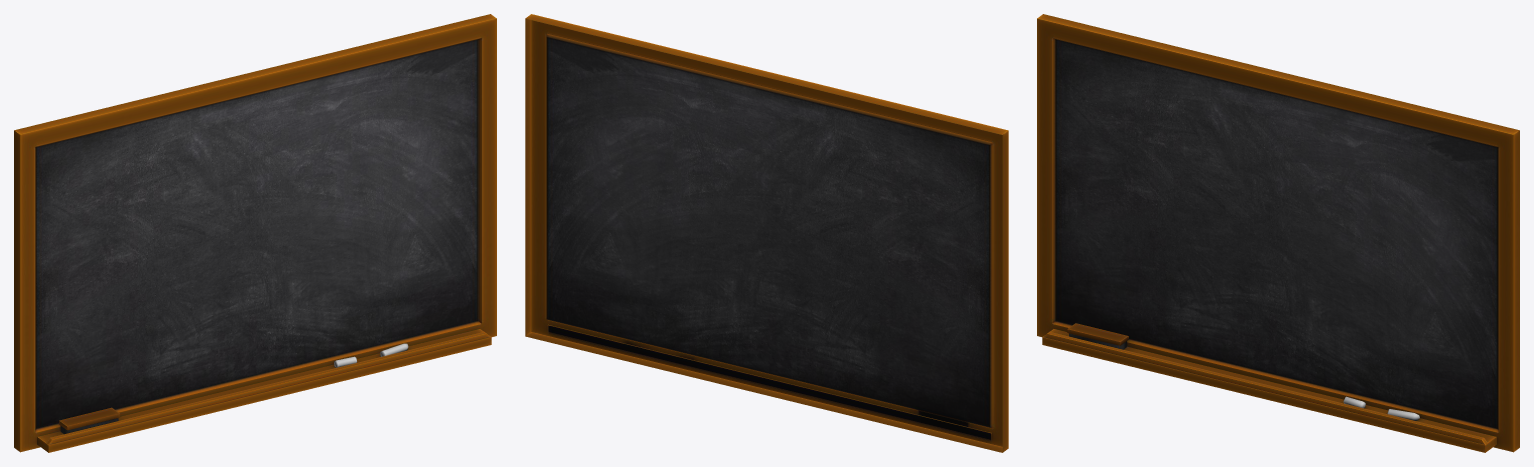
File: Blackboard.fbx
3 views of the same model, side by side, from view 1: azimuth 30°, elevation 25°; view 2: azimuth 150°, elevation 25°; view 3: azimuth 330°, elevation 25° (orthographic).
Parts seen in each view (by area): view 1: Blackboard; view 2: Blackboard; view 3: Blackboard.
Boxes of the visible parts, bbox=[...] form: Blackboard: bbox=[14, 14, 496, 452]; Blackboard: bbox=[525, 14, 1008, 452]; Blackboard: bbox=[1037, 14, 1519, 452].
Size of the model in its own units: 220 by 14.25 by 140.
